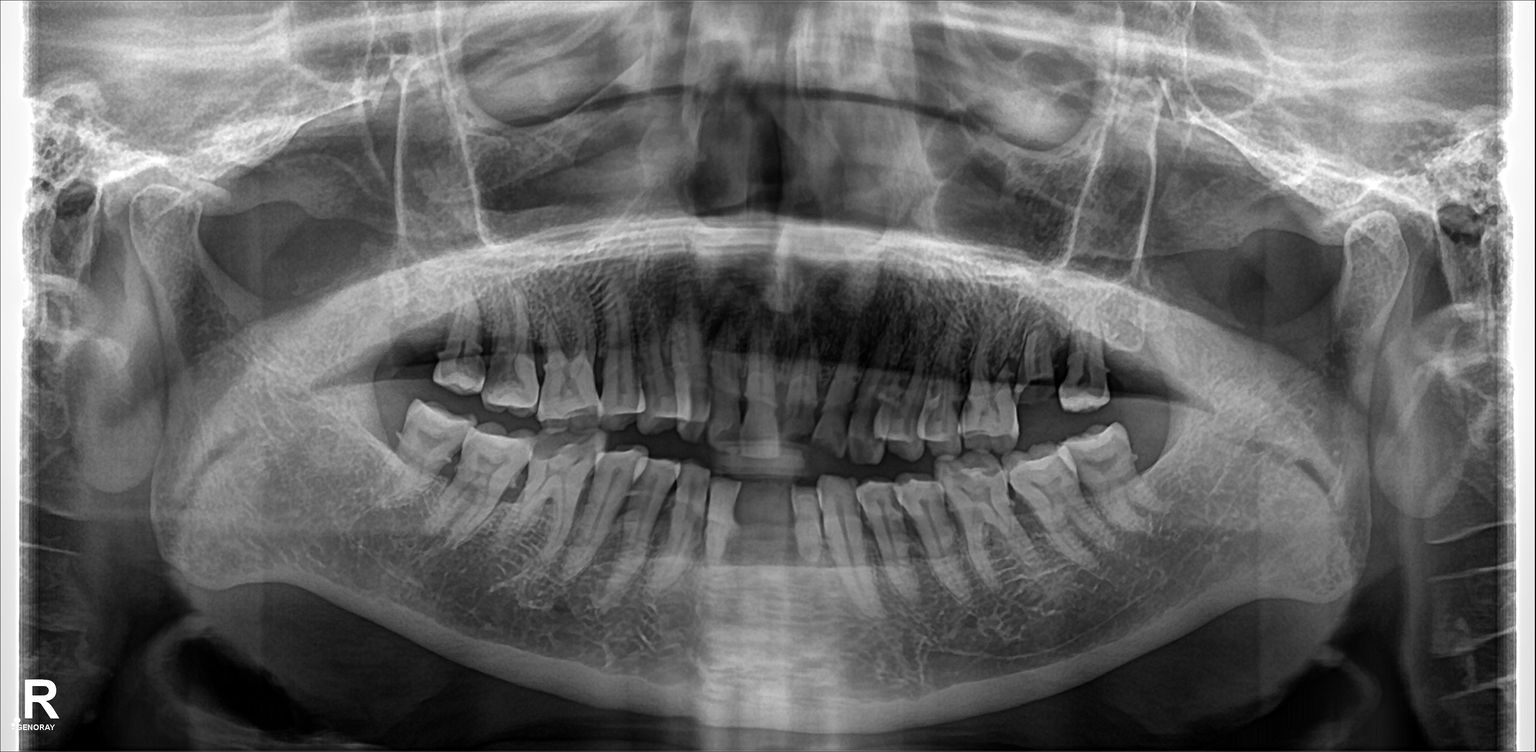Dental Caries: (534, 432, 596, 462)
Missing Tooth: (737, 477, 796, 582), (361, 378, 407, 474), (393, 305, 441, 384), (1110, 316, 1150, 395), (1140, 413, 1171, 495)
Retained Root: (1015, 322, 1055, 423)
